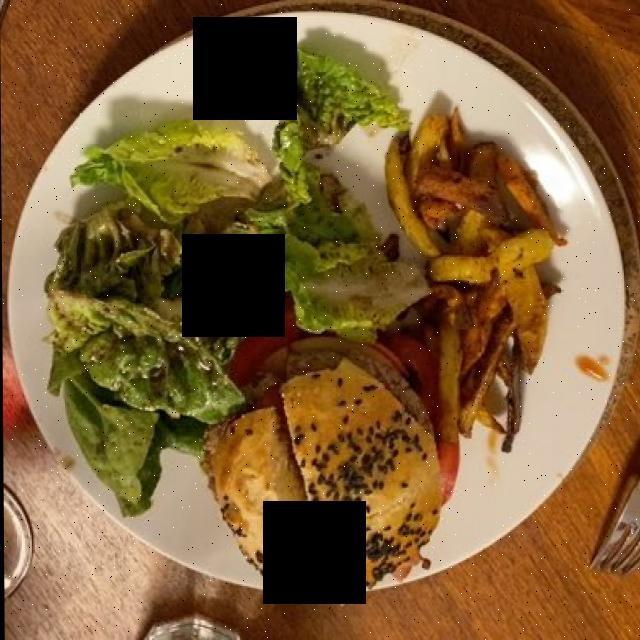chips-french-fries: (371, 110, 578, 460)
hamburger: (205, 310, 463, 593)
salad: (44, 51, 403, 522)
